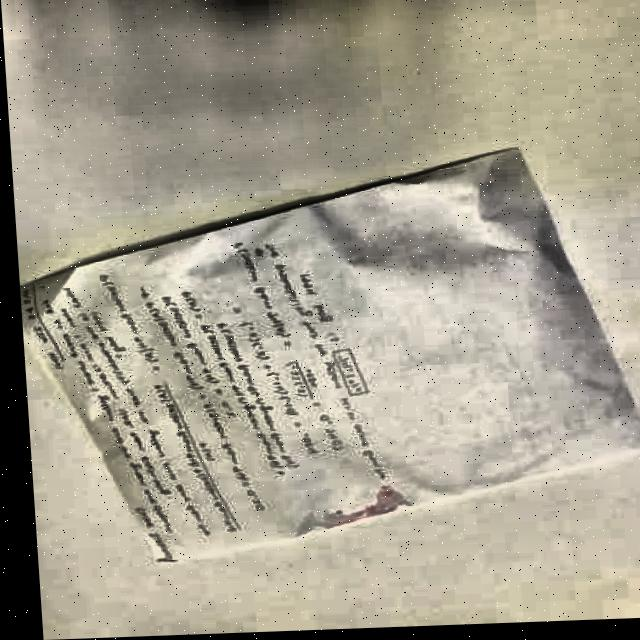paper: (11, 145, 640, 568)
